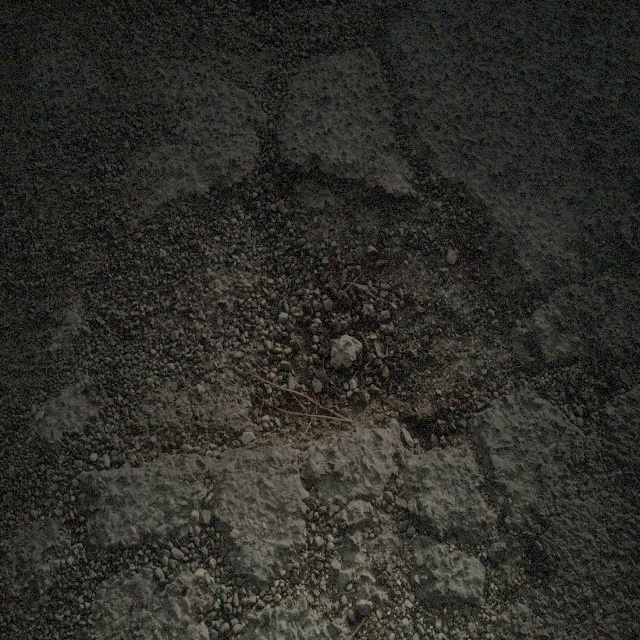pothole: (242, 134, 520, 462)
